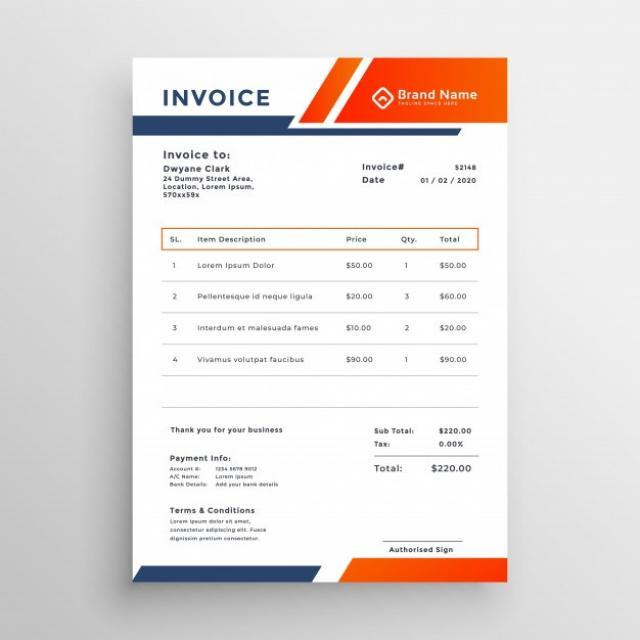customer_address: (160, 173, 257, 202)
customer_name: (160, 162, 241, 173)
invoice_date: (414, 174, 482, 187)
invoice_number: (443, 162, 484, 171)
invoice_subtotal: (435, 424, 476, 436)
invoice_total: (426, 460, 477, 476)
item_description: (192, 255, 320, 375)
item_quantity: (393, 256, 417, 375)
item_total_price: (433, 257, 473, 374)
item_unit_price: (340, 255, 377, 375)
supplier_name: (396, 88, 481, 108)
tax_rate: (434, 437, 470, 452)
